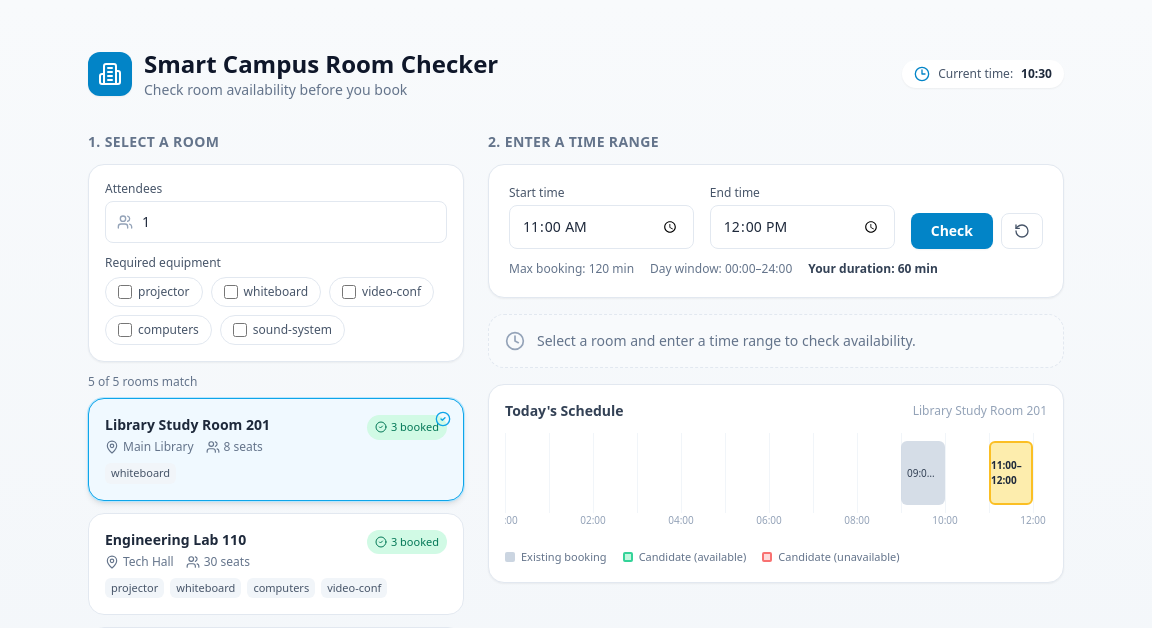
it: A5 mitigation M1 — time inputs are labelled and explain invalid values › no room selected: Check asks for a room, not for times
The width and height of the screenshot is (1152, 628).
Click the checkbox labelled "projector" at coordinates (125, 292), box [118,285,132,299]
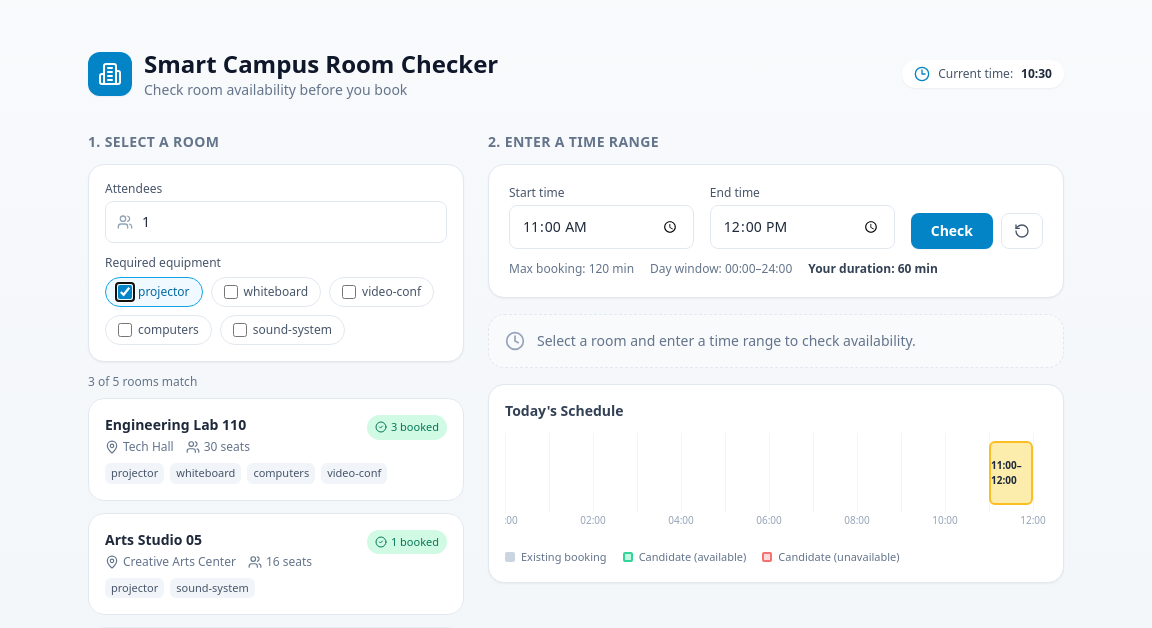
Click the button "Check" at coordinates (952, 231), box [911,213,993,249]
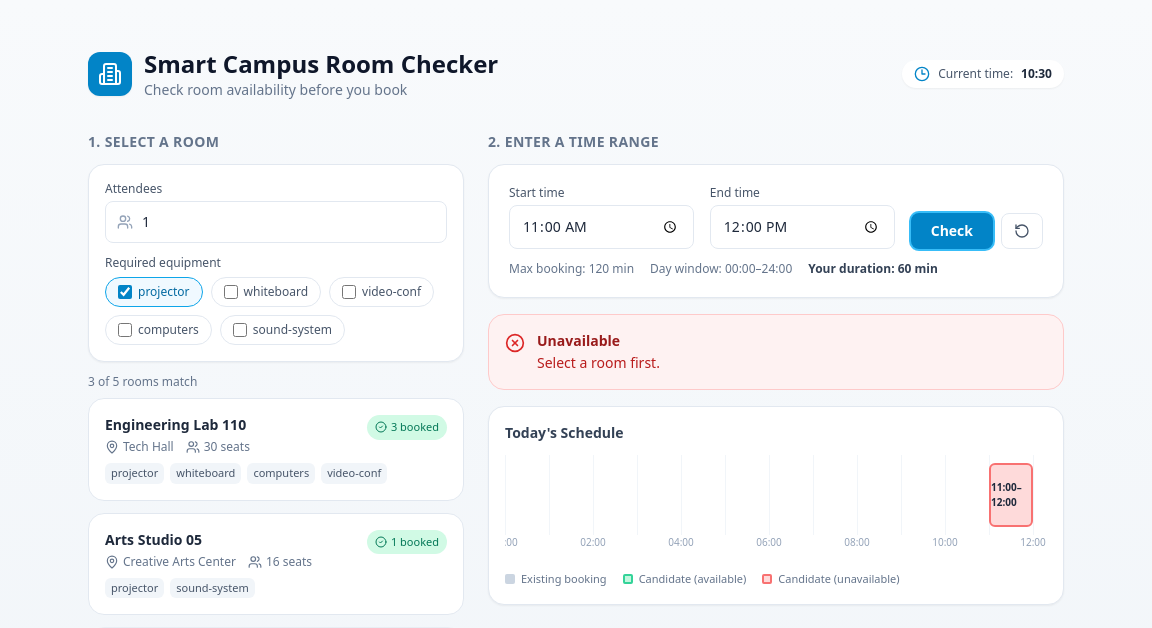
Now the text "Select a room first." is shown, box [537,353,660,373]
